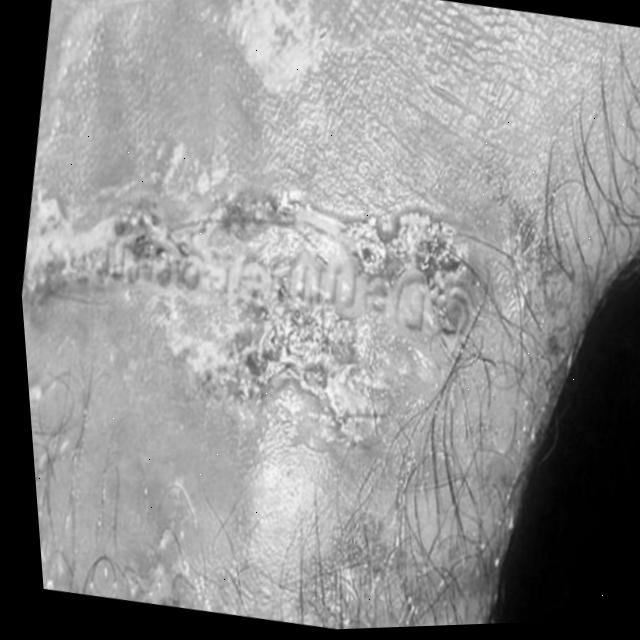Eczema: (9, 104, 578, 640)
